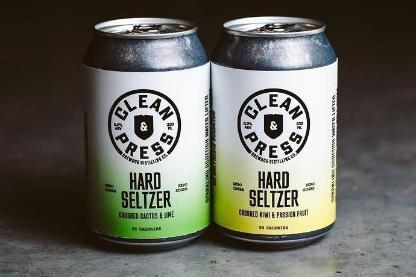Can: (81, 16, 211, 250), (209, 15, 338, 249)
